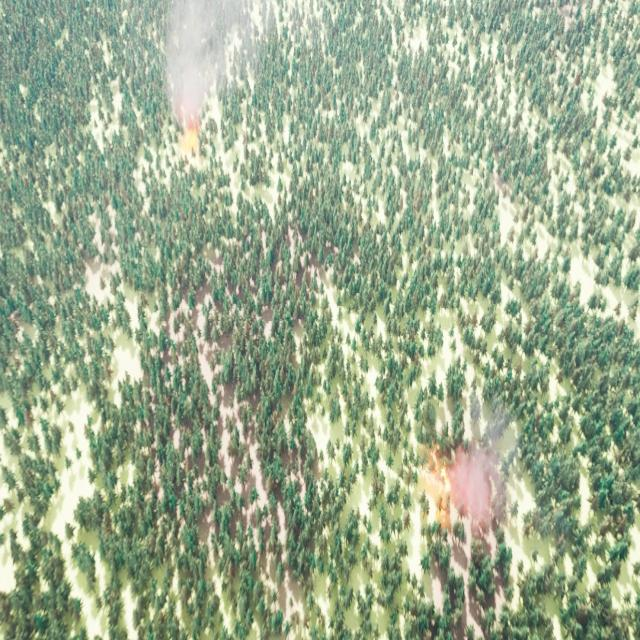fire: (420, 443, 452, 532), (176, 121, 200, 153)
smoke: (167, 0, 250, 115), (452, 403, 514, 540)
